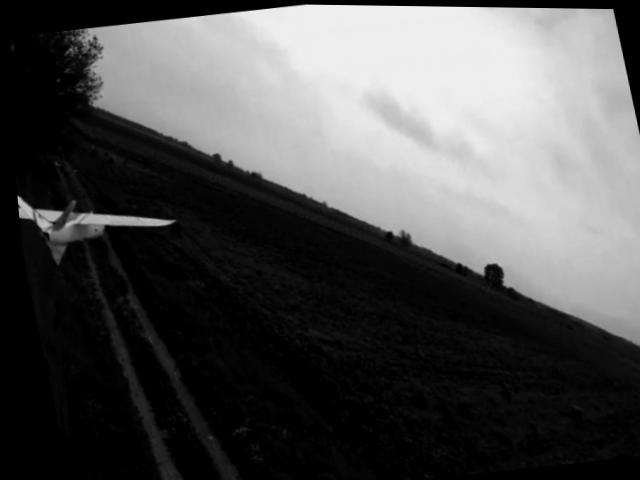hedef: (11, 160, 198, 267)
